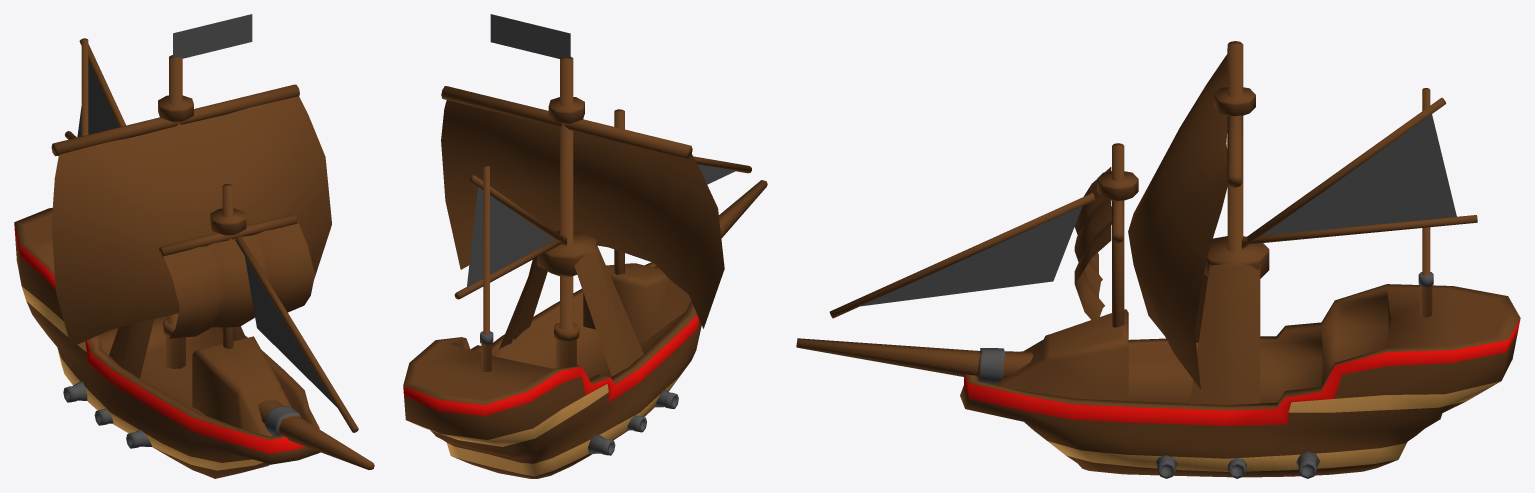
Rendered from Ship_Fbx.fbx.
The picture shows the model from 3 angles, left to right: view 1: azimuth 30°, elevation 25°; view 2: azimuth 150°, elevation 25°; view 3: azimuth 270°, elevation 25°; orthographic projection. The views are drawn at different scales.
Visible parts, largest first — view 1: ShipBase; view 2: ShipBase; view 3: ShipBase.
Part boxes in pixels (x1,y1,x2,y2): ShipBase: (14,14,374,478); ShipBase: (403,14,767,478); ShipBase: (796,41,1520,478).
Size of the model in its own units: 329 by 450 by 665.
